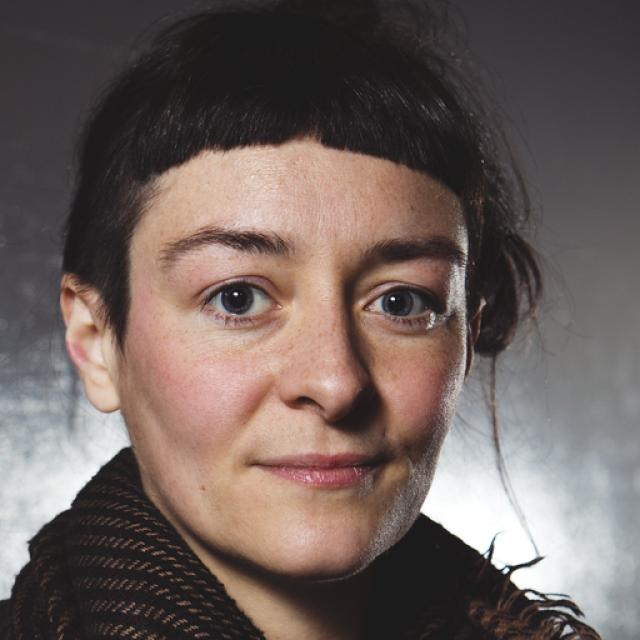Pigmentation: (298, 317, 362, 382), (357, 335, 439, 382), (238, 324, 298, 377)
